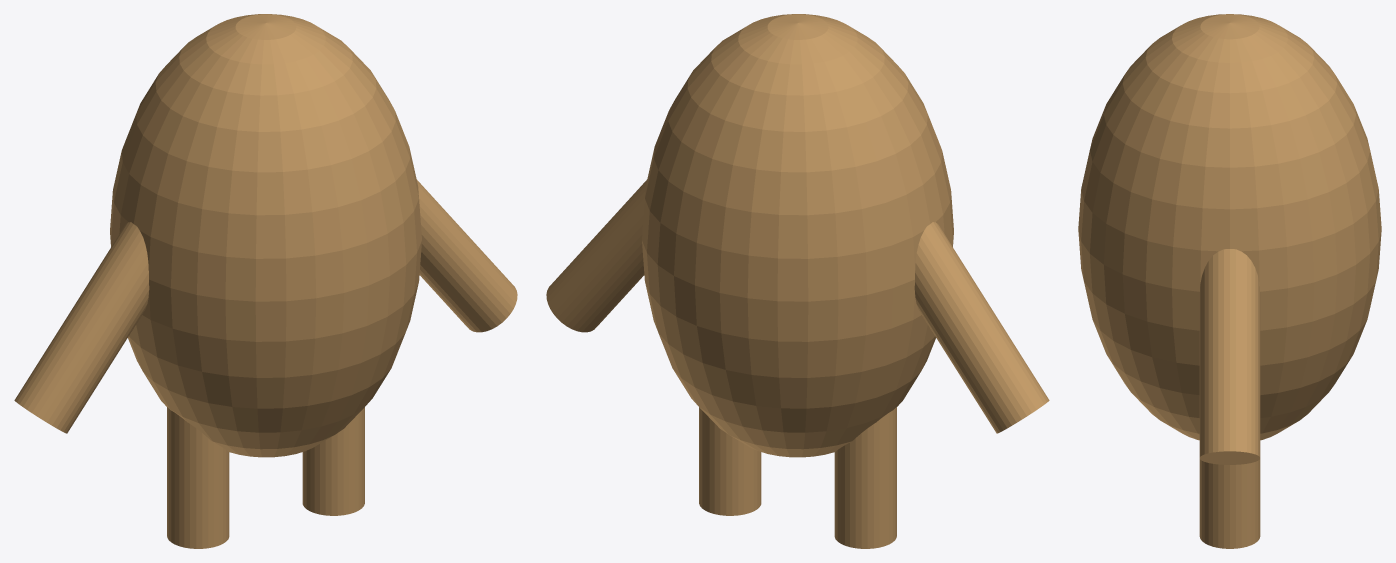
The model's file is steampunk_4.glb.
The picture shows the model from 3 angles, left to right: view 1: azimuth 30°, elevation 25°; view 2: azimuth 150°, elevation 25°; view 3: azimuth 270°, elevation 25°; orthographic projection. The views are drawn at different scales.
Parts seen in each view (by area): view 1: Sphere, Cylinder.003, Cylinder.002, Cylinder.001, Cylinder; view 2: Sphere, Cylinder.003, Cylinder.002, Cylinder.001, Cylinder; view 3: Sphere, Cylinder.002, Cylinder.
Boxes of the visible parts, left/top/right/bottom form: Sphere: left=110, top=14, right=421, bottom=457; Cylinder.003: left=14, top=222, right=149, bottom=433; Cylinder.002: left=416, top=179, right=517, bottom=332; Cylinder.001: left=167, top=407, right=229, bottom=548; Cylinder: left=302, top=407, right=364, bottom=515; Sphere: left=642, top=14, right=953, bottom=457; Cylinder.003: left=914, top=222, right=1049, bottom=433; Cylinder.002: left=546, top=179, right=647, bottom=332; Cylinder.001: left=834, top=407, right=896, bottom=548; Cylinder: left=699, top=407, right=761, bottom=515; Sphere: left=1078, top=14, right=1381, bottom=440; Cylinder.002: left=1199, top=249, right=1260, bottom=464; Cylinder: left=1199, top=459, right=1260, bottom=548.
Bounding box in the file's own units: 1.82 × 1.75 × 1.
